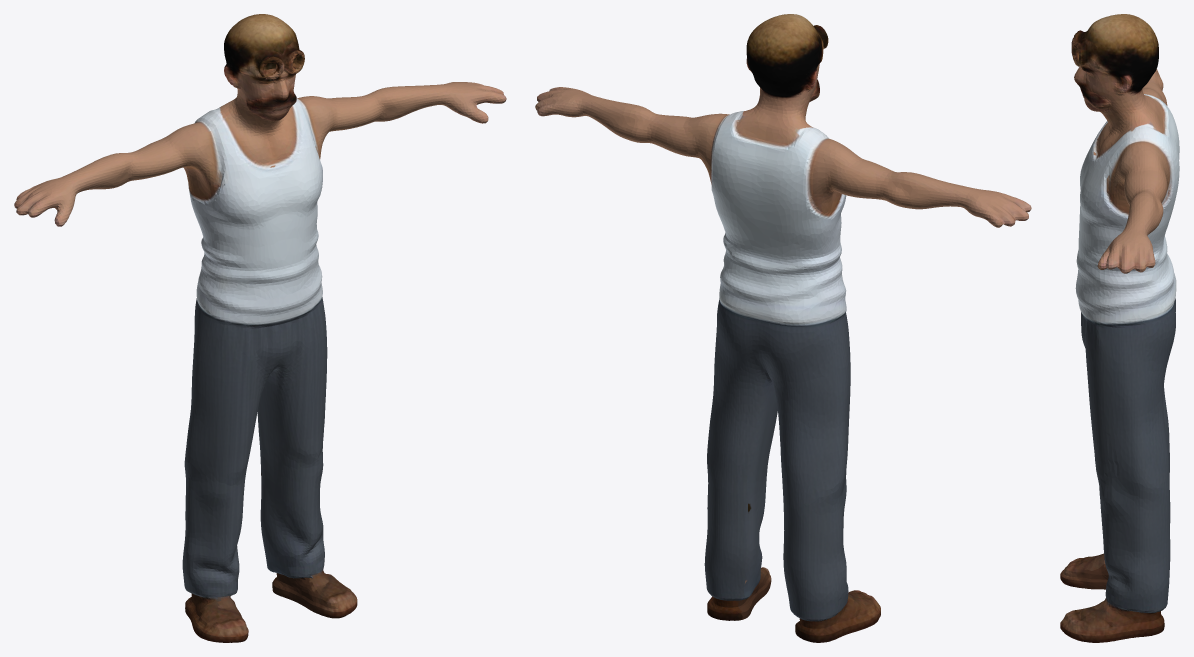
The model's file is ibrahim.glb.
The picture shows the model from 3 angles, left to right: view 1: azimuth 30°, elevation 25°; view 2: azimuth 150°, elevation 25°; view 3: azimuth 270°, elevation 25°; orthographic projection.
Parts seen in each view (by area): view 1: tmpo3yk_ued.ply; view 2: tmpo3yk_ued.ply; view 3: tmpo3yk_ued.ply.
Boxes of the visible parts, x1=… form: tmpo3yk_ued.ply: x1=14, y1=14, x2=506, y2=642; tmpo3yk_ued.ply: x1=535, y1=14, x2=1031, y2=642; tmpo3yk_ued.ply: x1=1060, y1=14, x2=1179, y2=642.
Bounding box in the file's own units: 1.71 × 1.99 × 0.3646.
1 material, 1 textured.
